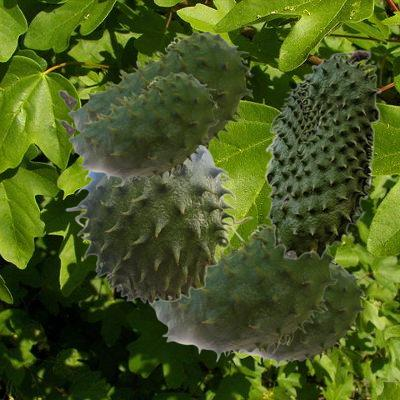guyabano: (65, 146, 252, 304), (149, 223, 337, 361), (264, 49, 380, 259), (58, 31, 252, 148), (60, 72, 218, 185), (239, 264, 365, 367)
